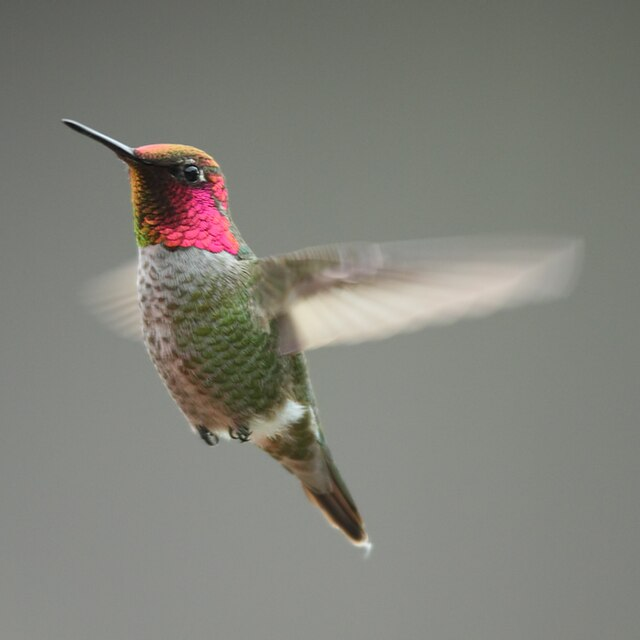calypte anna: (60, 118, 580, 548)
